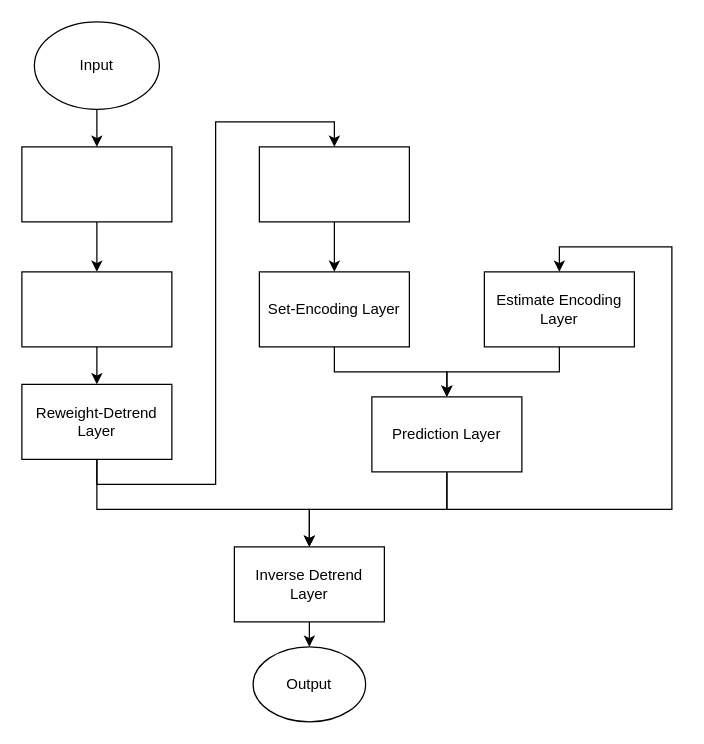
Image size: 704x744. Some labels were removed from this diagram. Here are the shapes that lost their labels. From the top down, the box of each, then its label:
(21, 146, 172, 222): Scaling Layer
(258, 146, 409, 222): Wavelet Layer
(21, 271, 172, 347): Subsampling Layer
